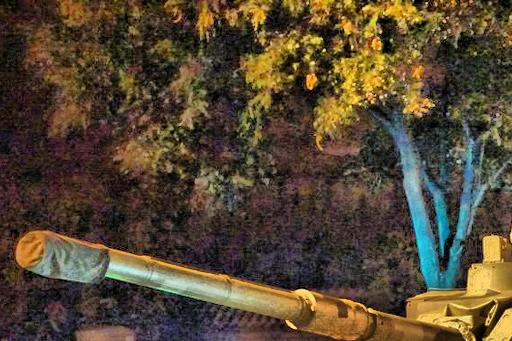tanks: (19, 231, 512, 341)
